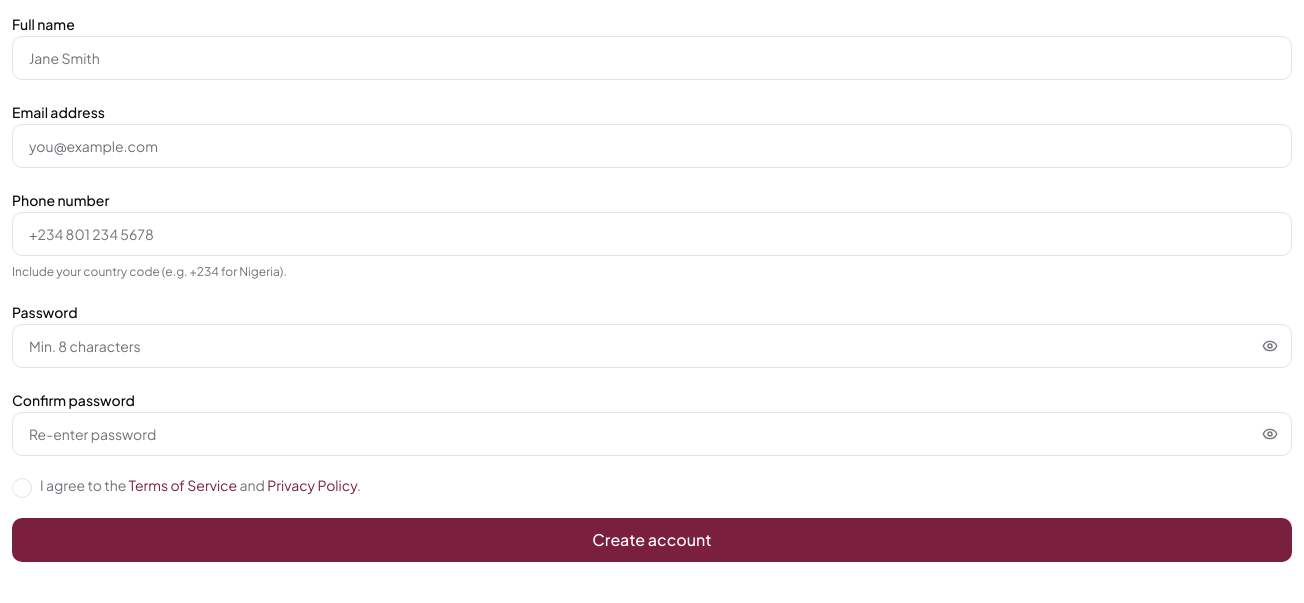
RegisterForm (F8.3) › validates phone number format (rejects non-numeric characters)
Type "Collins Okeke" into the field labelled "Full name".
click(652, 58); type("Collins Okeke")  # box [12,36,1292,80]
Type "collins@example.com" into the field labelled "Email address".
click(652, 146); type("collins@example.com")  # box [12,124,1292,168]
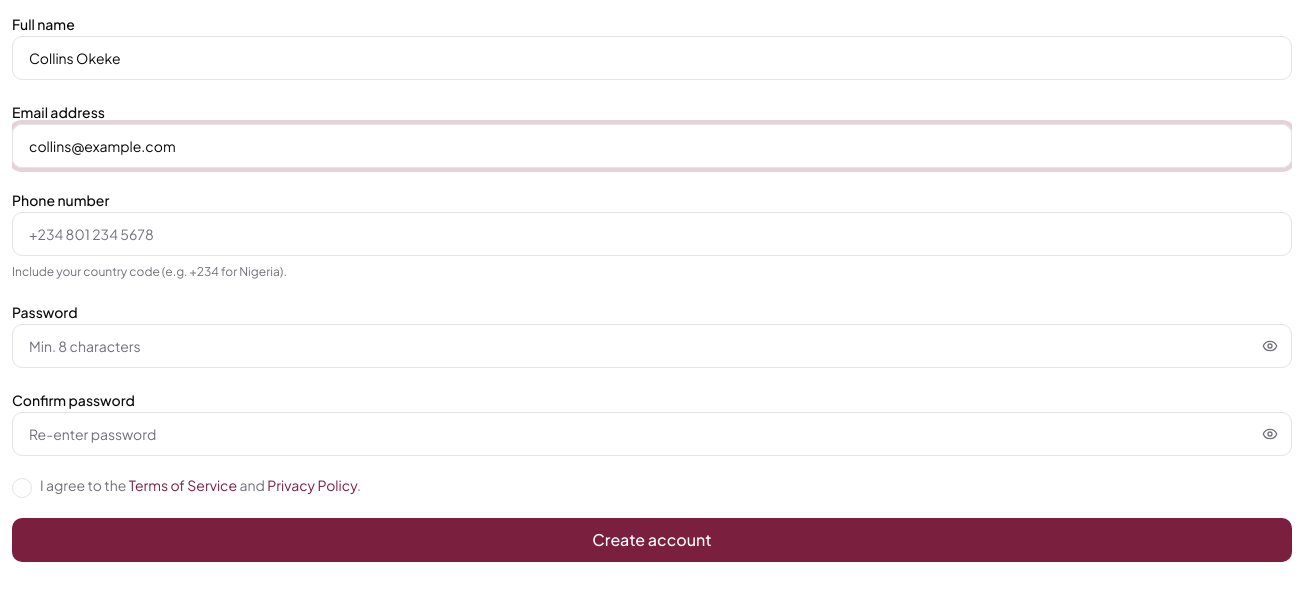
Type "not-a-phone!!" into the field labelled "Phone number".
click(652, 234); type("not-a-phone!!")  # box [12,212,1292,256]
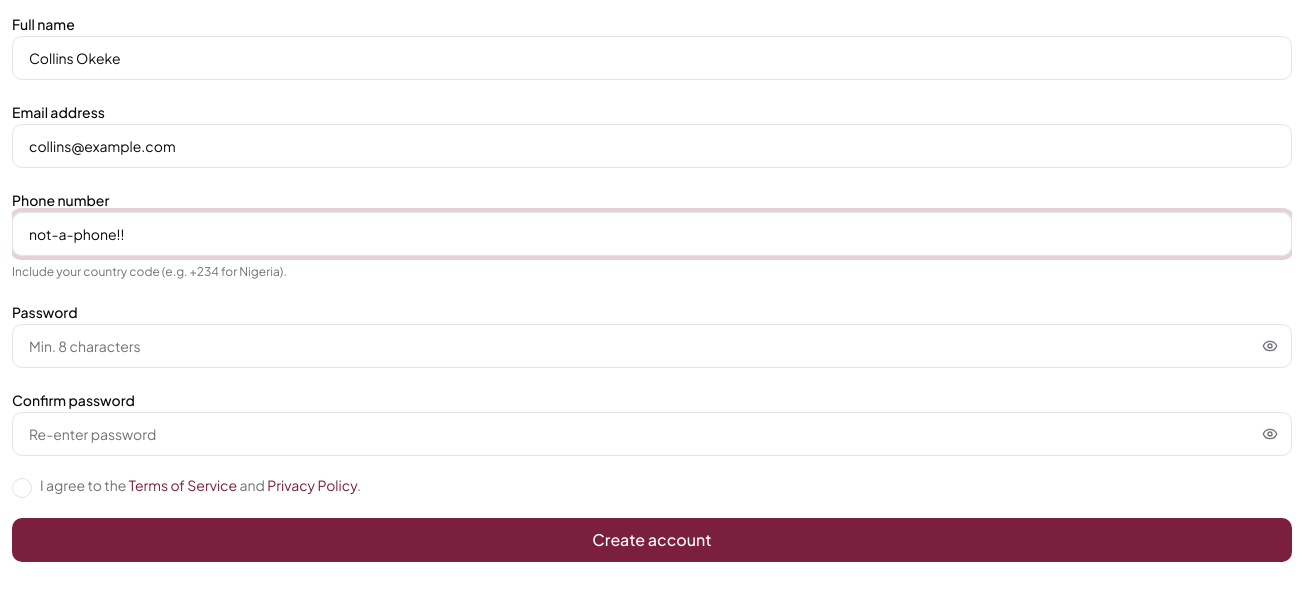
Type "Secret123!" into the password field with placeholder "Min. 8 characters".
click(652, 346); type("Secret123!")  # box [12,324,1292,368]
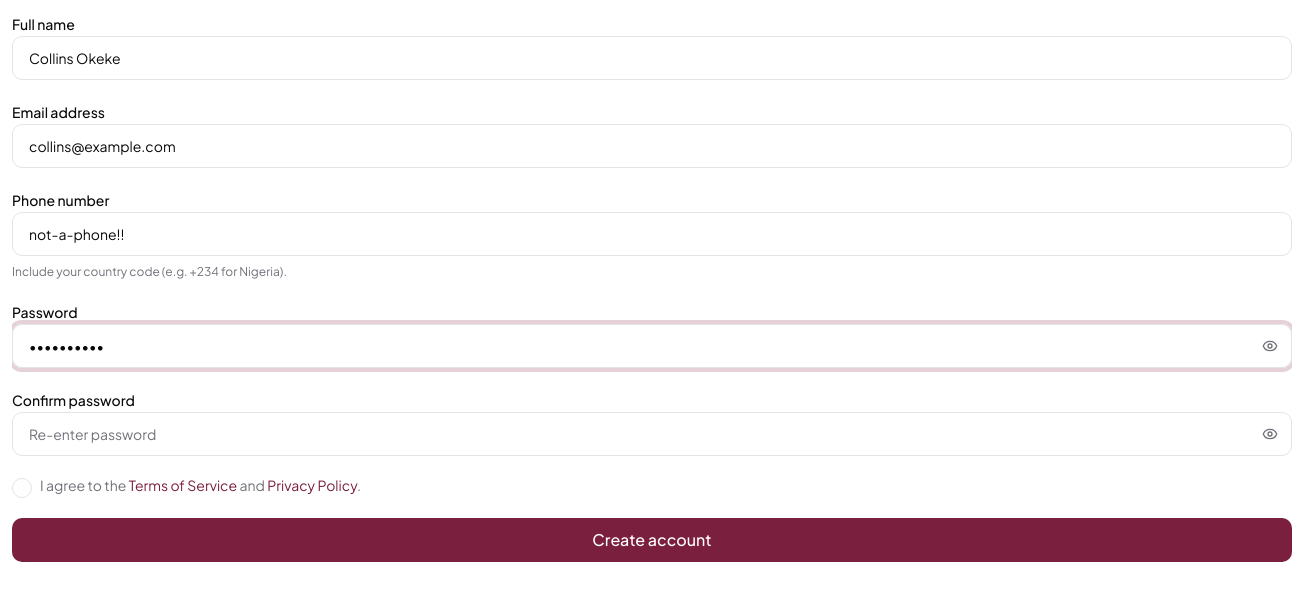
Type "Secret123!" into the password field with placeholder "Re-enter password".
click(652, 434); type("Secret123!")  # box [12,412,1292,456]
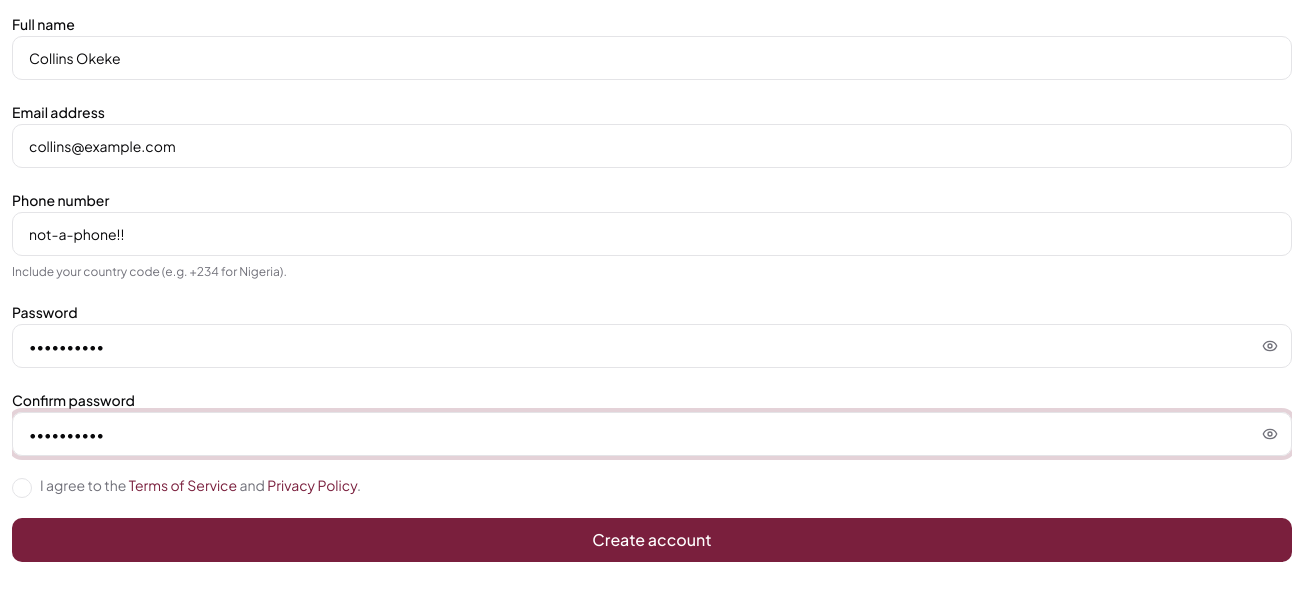
Click the checkbox.
click(22, 488)  # box [12,478,32,498]
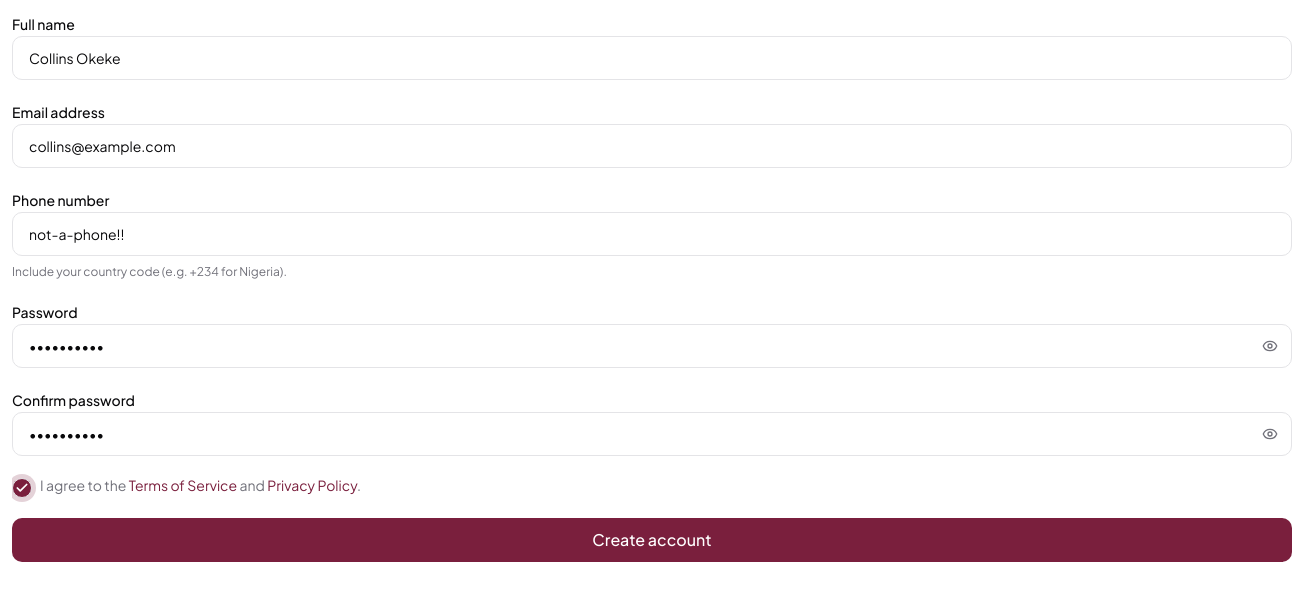
Click the button "Create account".
click(652, 540)  # box [12,518,1292,562]
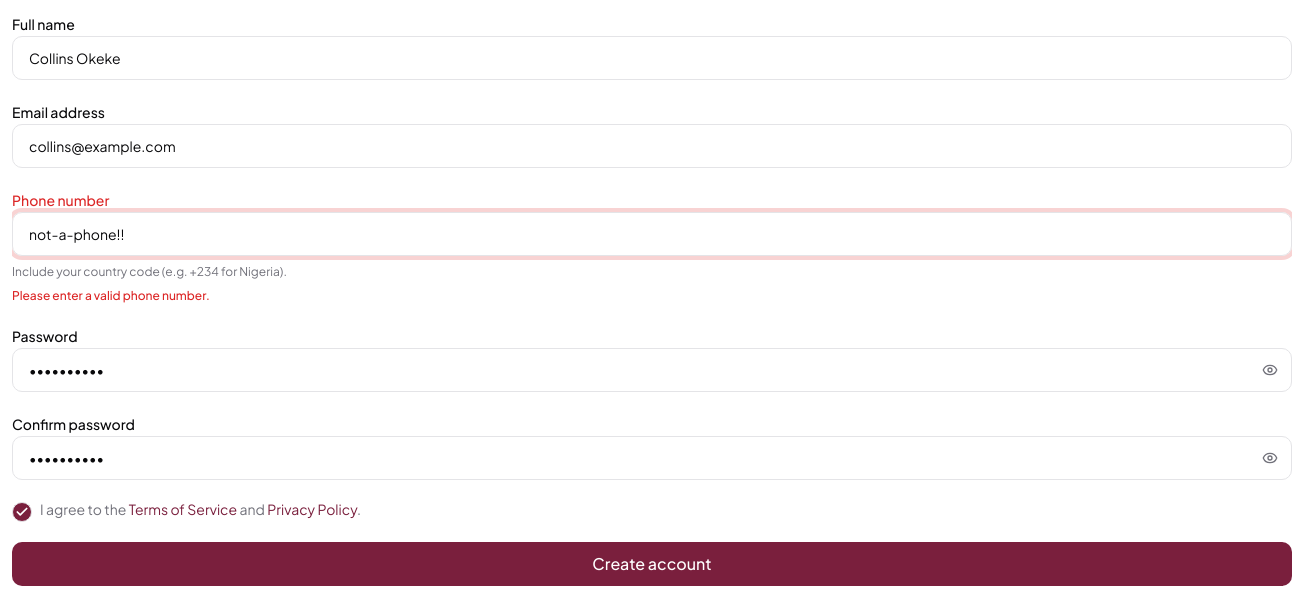
Check: the text "Please enter a valid phone number." is shown, box [12,288,210,303]
